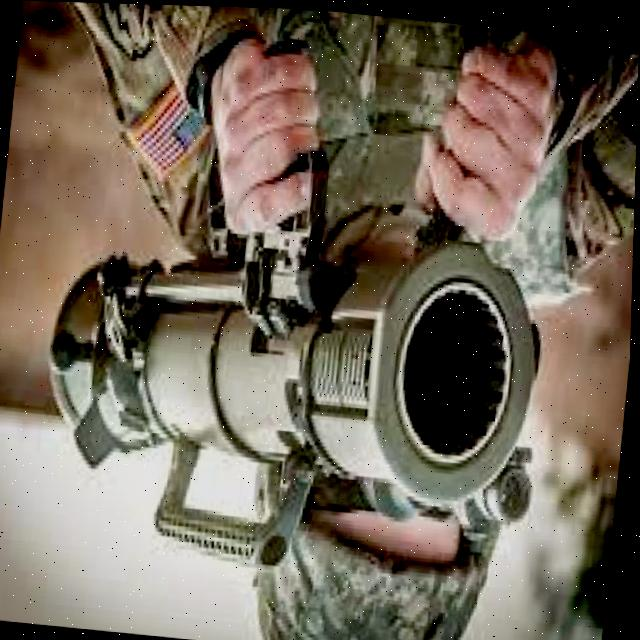rocket: (22, 182, 597, 598)
